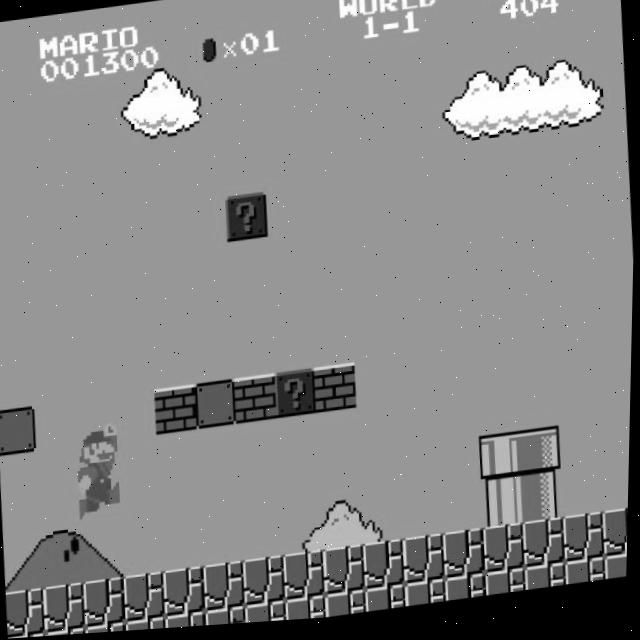0- big_mario: (73, 422, 124, 521)
1- brick_block: (314, 366, 359, 418), (154, 386, 199, 437), (234, 376, 279, 427)
13- mystery_block: (274, 371, 319, 423), (225, 195, 270, 245)
14- pipe: (521, 478, 566, 530), (481, 483, 526, 534)
15- pipe_head: (479, 438, 524, 489), (519, 433, 563, 484)
17- undestructible_block: (44, 582, 89, 634), (284, 553, 329, 605), (404, 538, 449, 590), (444, 533, 489, 585), (84, 578, 129, 629), (124, 573, 169, 624), (164, 568, 209, 619), (204, 563, 249, 614), (244, 558, 289, 609), (324, 548, 369, 599), (364, 544, 409, 595), (483, 529, 528, 580), (523, 524, 568, 575), (564, 519, 608, 570), (7, 588, 48, 638), (604, 514, 630, 565), (366, 588, 410, 617), (326, 594, 370, 622), (406, 584, 450, 612), (526, 569, 570, 597), (566, 565, 610, 593), (446, 579, 489, 607), (486, 574, 529, 602), (286, 598, 329, 624), (246, 603, 289, 627), (207, 608, 250, 629), (167, 612, 210, 631), (606, 560, 630, 588), (127, 618, 170, 633), (87, 623, 130, 635), (47, 628, 90, 637)
3- empty_block: (194, 381, 239, 432), (0, 406, 38, 456)
